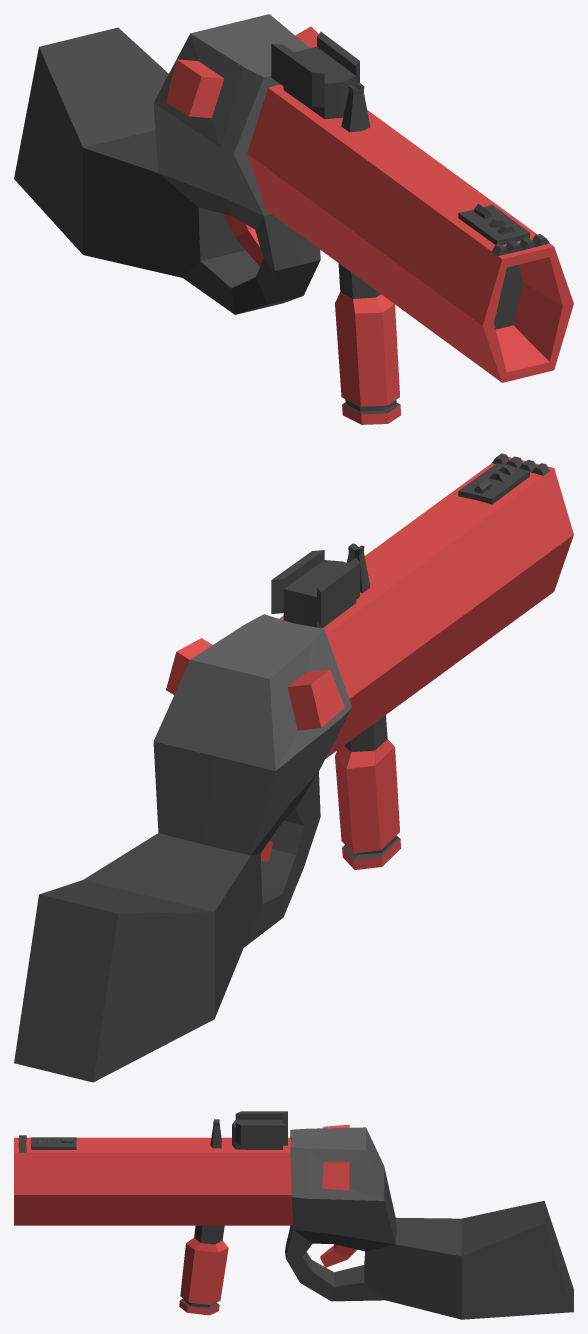
File: Gun.fbx
The picture shows the model from 3 angles, top to bottom: view 1: azimuth 30°, elevation 25°; view 2: azimuth 150°, elevation 25°; view 3: azimuth 270°, elevation 25°; orthographic projection. The views are drawn at different scales.
Visible parts, largest first — view 1: gun:Mesh; view 2: gun:Mesh; view 3: gun:Mesh.
Boxes of the visible parts, x1,y1,x2,y2 form: gun:Mesh: (14, 14, 573, 424); gun:Mesh: (14, 453, 573, 1082); gun:Mesh: (14, 1111, 573, 1319).
Bounding box in the file's own units: 0.2131 × 0.4261 × 1.12.
Materials: 2 (2 with a texture image).
